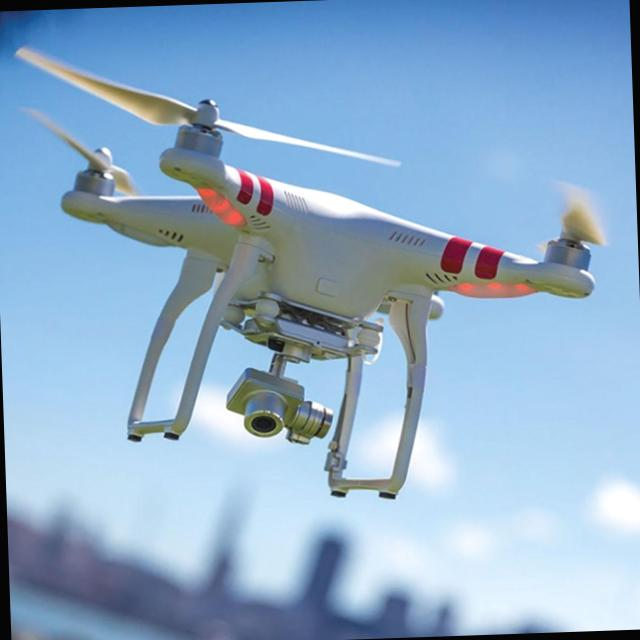drone: (55, 82, 602, 510)
